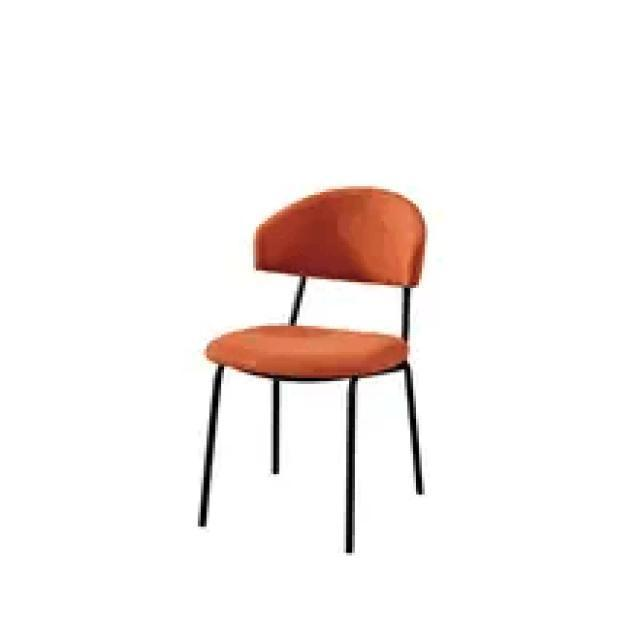chair: (190, 177, 430, 554), (204, 184, 430, 390)
